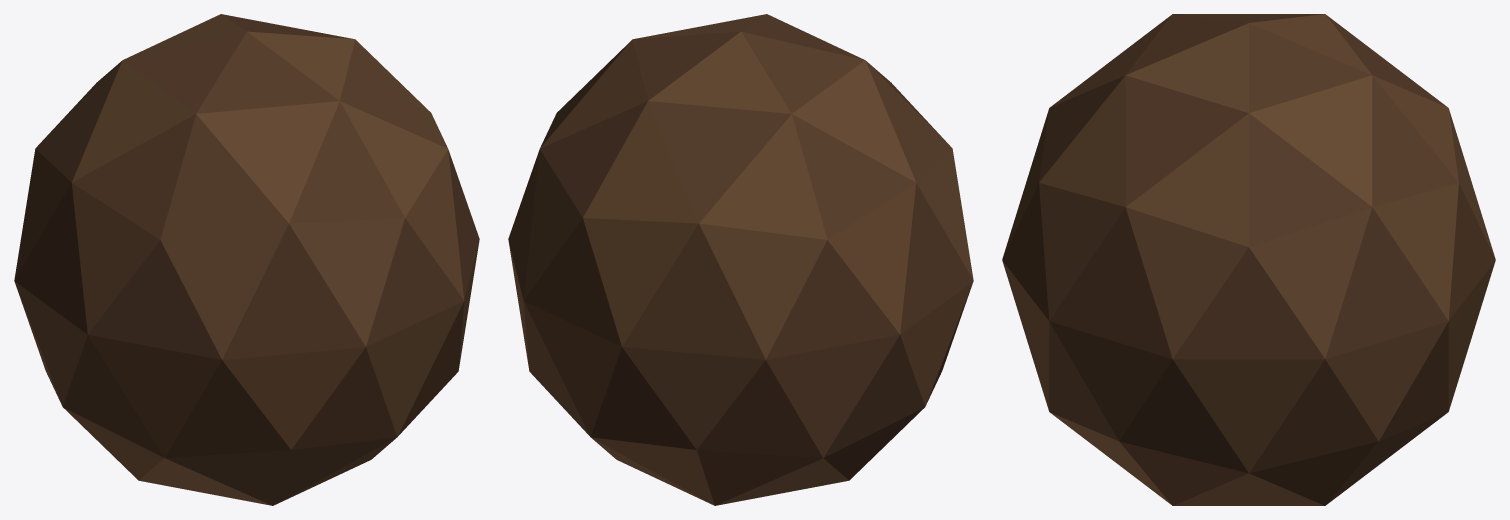
File: coconut.fbx
The picture shows the model from 3 angles, left to right: view 1: azimuth 30°, elevation 25°; view 2: azimuth 150°, elevation 25°; view 3: azimuth 270°, elevation 25°; orthographic projection. The views are drawn at different scales.
Visible parts, largest first — view 1: coconut; view 2: coconut; view 3: coconut.
Boxes of the visible parts, x1,y1,x2,y2 form: coconut: (14, 14, 479, 505); coconut: (508, 14, 973, 505); coconut: (1002, 14, 1495, 505).
Bounding box in the file's own units: 2.05 × 2.28 × 2.16.
